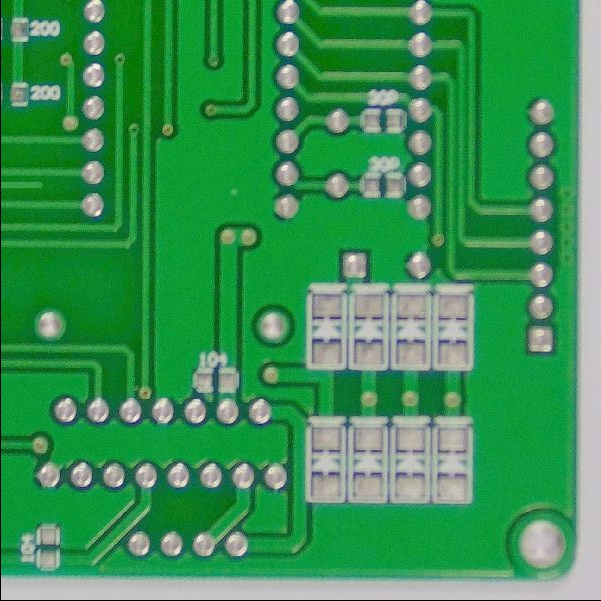spurious_copper: (1, 177, 50, 197)
